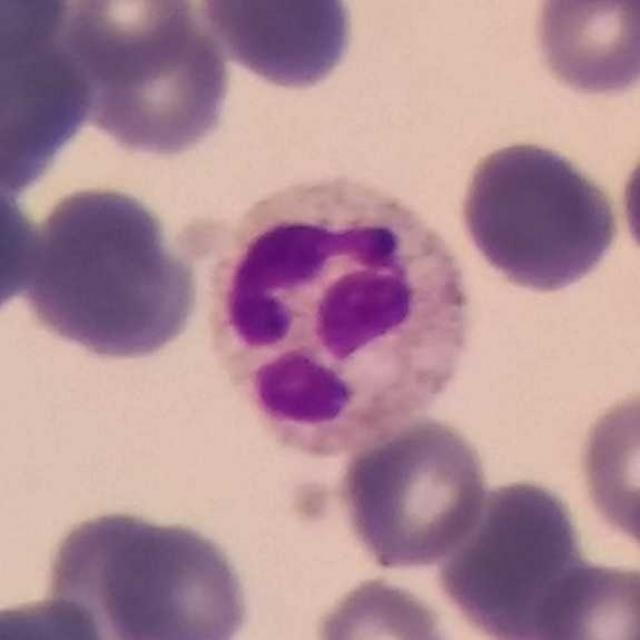Neutrophil: (205, 171, 483, 452)
RBC: (21, 180, 205, 367), (454, 135, 625, 297), (435, 474, 592, 640), (333, 413, 493, 573), (74, 11, 235, 162), (87, 511, 256, 640), (35, 503, 188, 639), (0, 5, 101, 209), (196, 0, 362, 95), (572, 383, 640, 559), (56, 0, 200, 82), (525, 0, 639, 101), (309, 572, 462, 640), (528, 556, 640, 640), (0, 173, 43, 326), (0, 592, 116, 640), (615, 140, 640, 261)
